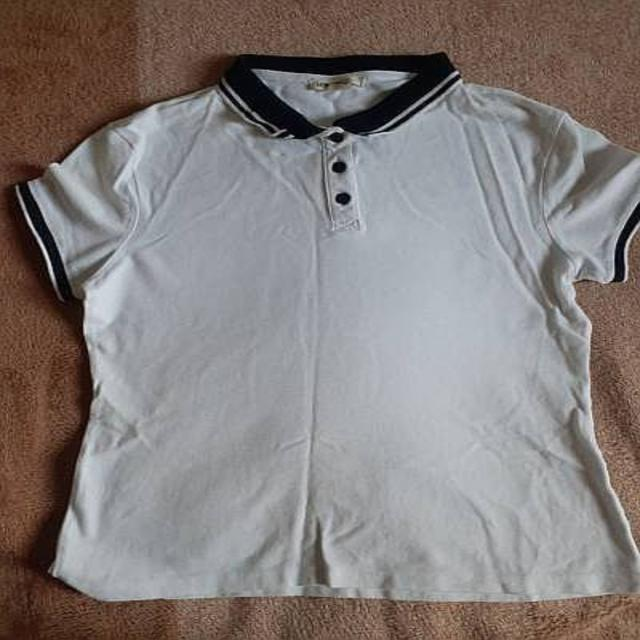T_SHIRT: (0, 44, 640, 609)
